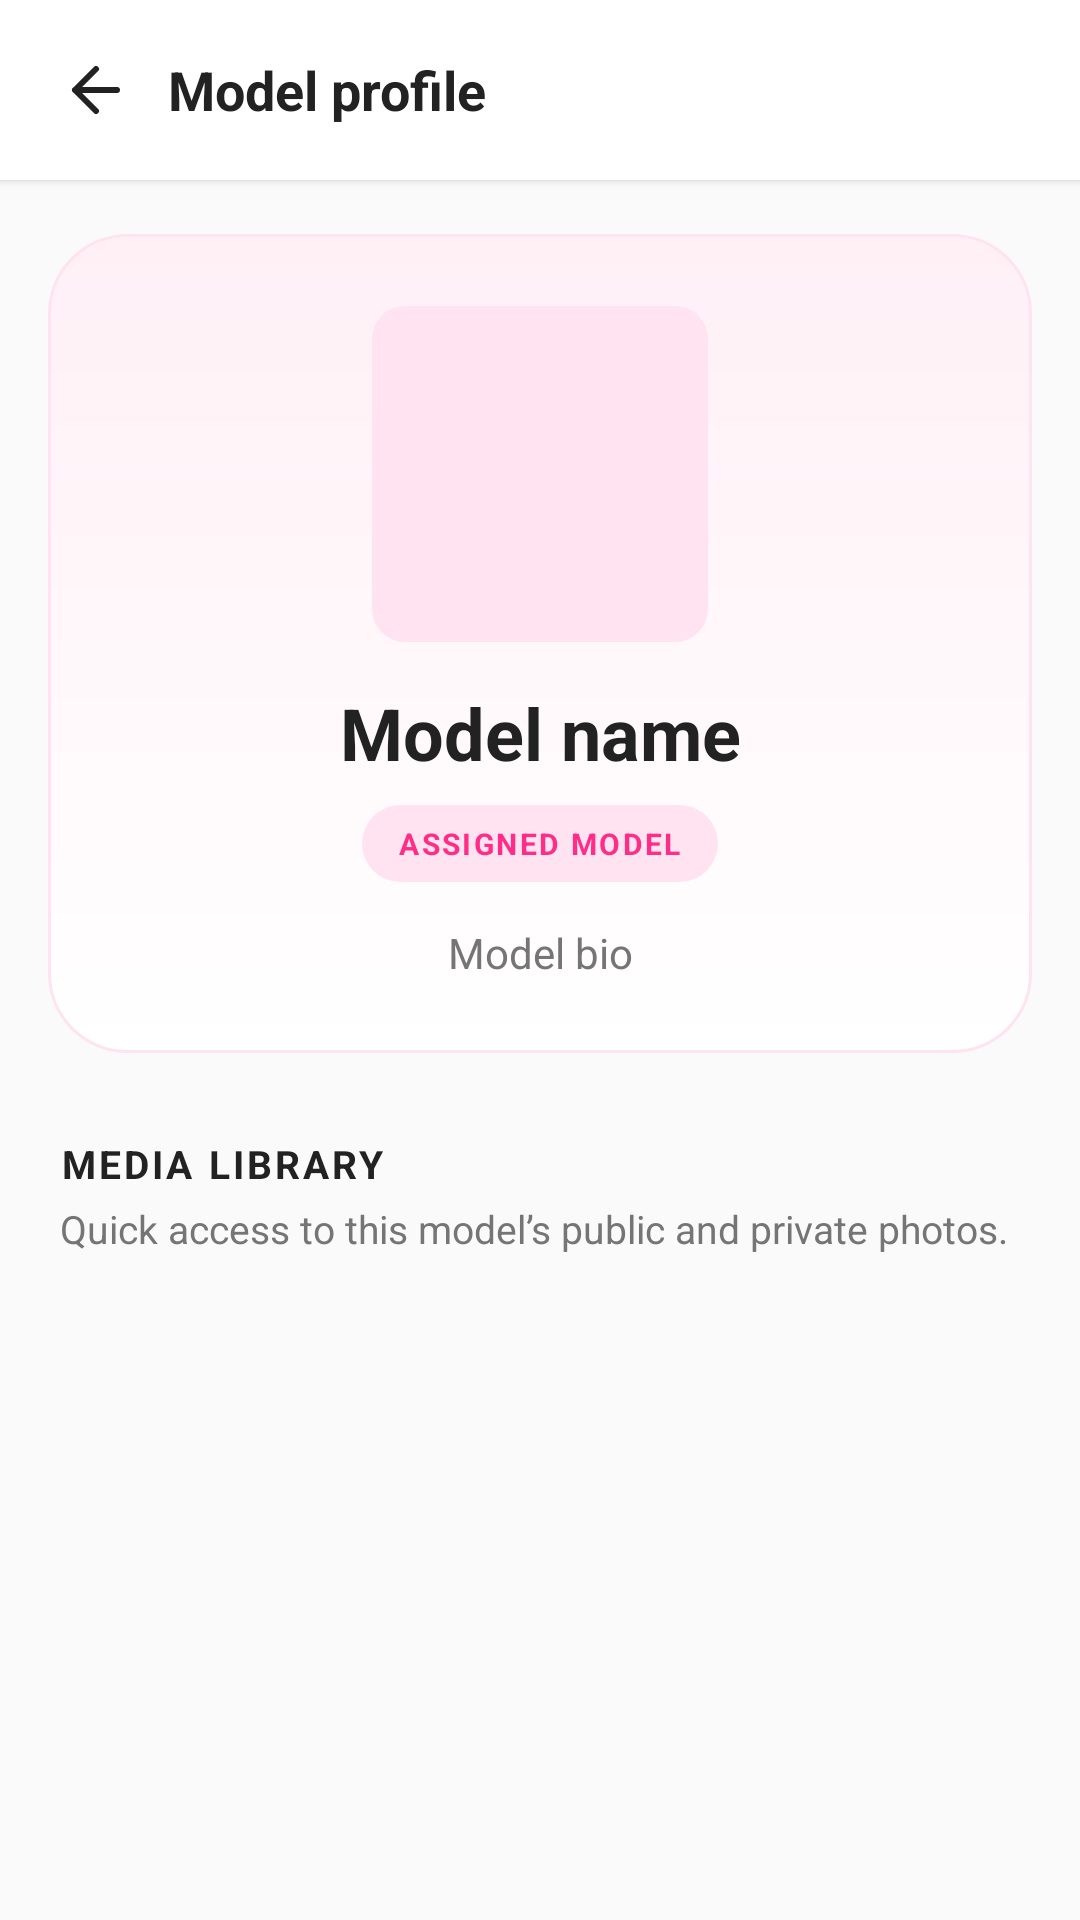

Screen size 1080×1920. Icon name, then its box in pixels as detection(x1, y1, x2, y2):
Back: detection(72, 66, 120, 114)
